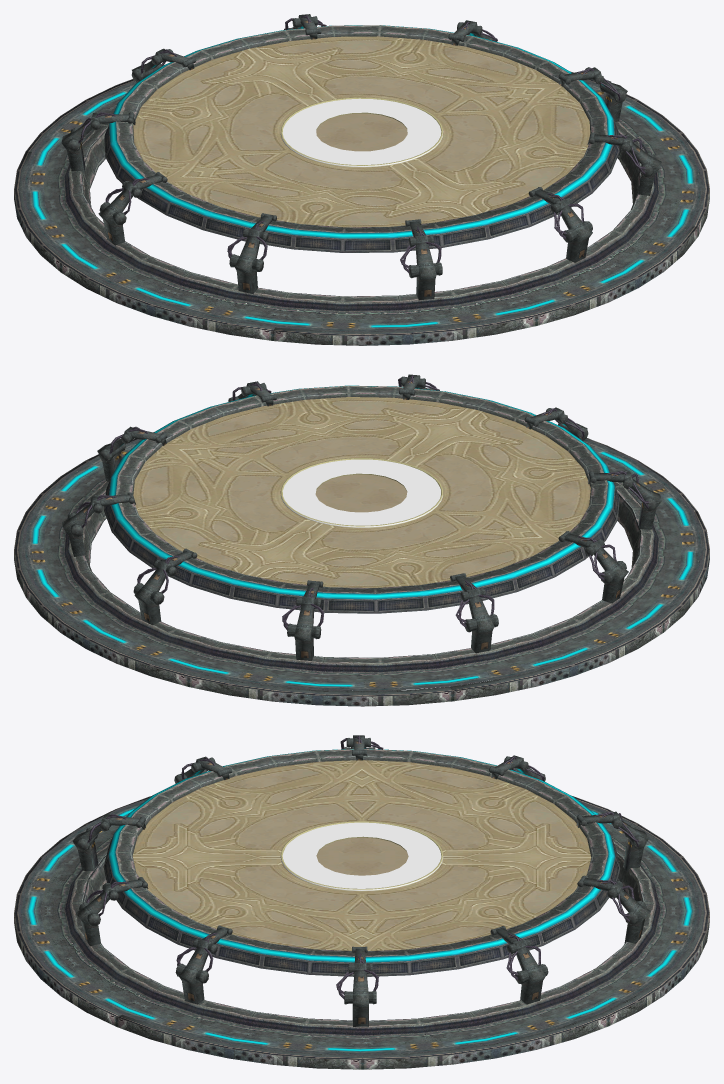
Rendered from S_Build_Jidi088_A1.FBX.
3 renders of one model, top to bottom at view 1: azimuth 30°, elevation 25°; view 2: azimuth 150°, elevation 25°; view 3: azimuth 270°, elevation 25°, orthographic.
Parts seen in each view (by area): view 1: S_Build_Jidi088_A1; view 2: S_Build_Jidi088_A1; view 3: S_Build_Jidi088_A1.
Part boxes in pixels (x1,y1,x2,y2): S_Build_Jidi088_A1: (14,14,709,345); S_Build_Jidi088_A1: (14,374,709,706); S_Build_Jidi088_A1: (14,735,709,1069).
Size of the model in its own units: 16104 by 1941 by 16104.
